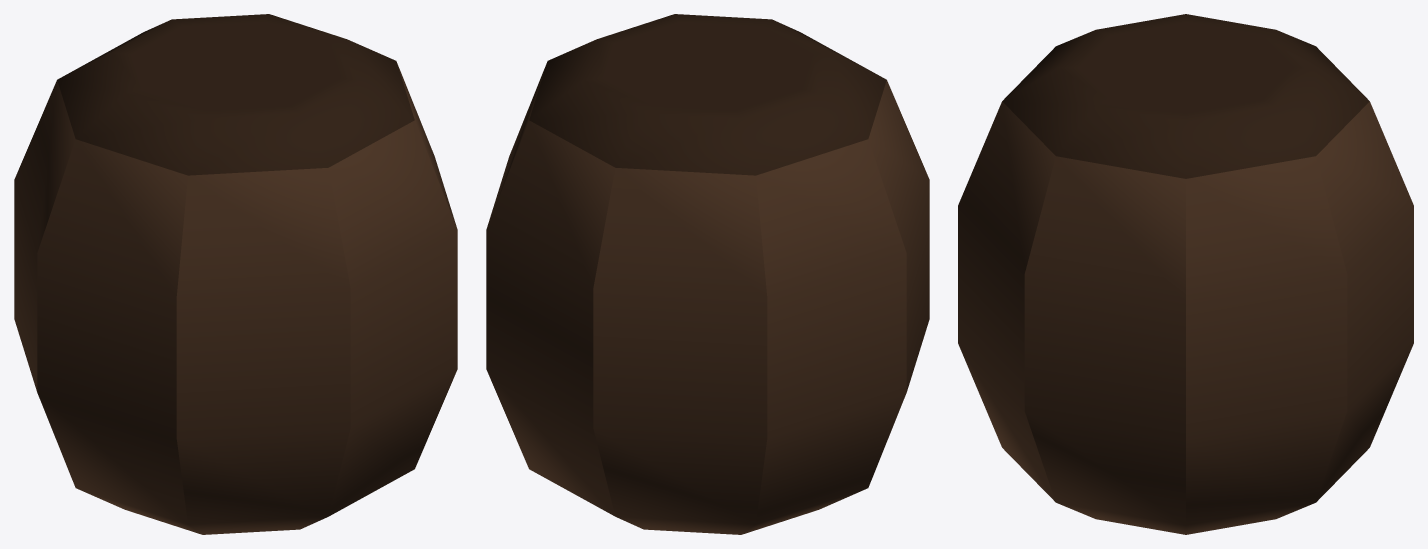
Rendered from Barrel-1.fbx.
3 renders of one model, left to right at view 1: azimuth 30°, elevation 25°; view 2: azimuth 150°, elevation 25°; view 3: azimuth 270°, elevation 25°, orthographic.
Visible parts, largest first — view 1: Cylinder.223; view 2: Cylinder.223; view 3: Cylinder.223.
Boxes of the visible parts, x1,y1,x2,y2 form: Cylinder.223: (14, 14, 457, 534); Cylinder.223: (486, 14, 929, 534); Cylinder.223: (958, 14, 1413, 534).
Bounding box in the file's own units: 20.19 × 20.19 × 20.19.
